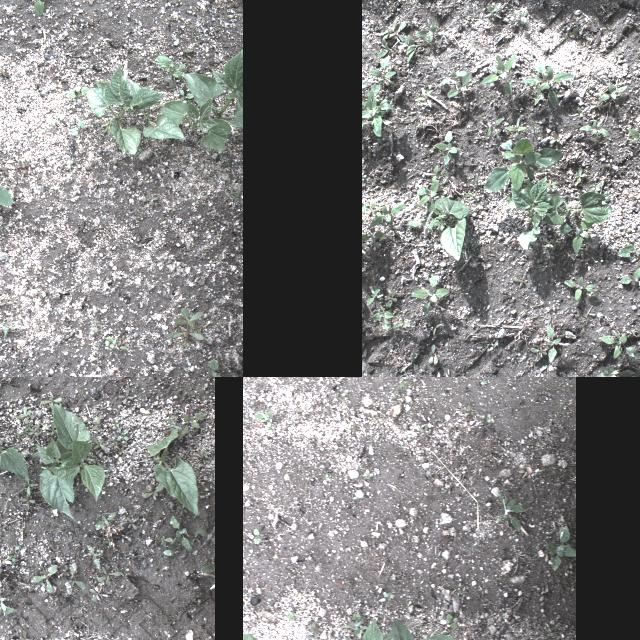crop: (138, 49, 243, 152), (87, 62, 163, 158), (37, 404, 104, 502), (146, 414, 200, 514), (429, 172, 477, 260), (28, 438, 74, 520), (507, 175, 555, 249), (330, 611, 420, 640), (539, 191, 611, 225), (0, 399, 28, 482), (243, 629, 265, 640)
weed: (483, 138, 563, 192), (521, 62, 573, 106), (165, 303, 207, 345), (409, 274, 448, 316), (480, 54, 516, 98), (543, 521, 573, 573), (362, 90, 394, 136), (598, 329, 640, 359), (557, 220, 593, 254), (369, 55, 397, 97), (154, 52, 188, 86), (495, 495, 527, 531), (58, 562, 86, 596), (179, 406, 205, 440), (368, 204, 406, 226), (31, 562, 57, 594), (564, 276, 598, 300), (170, 514, 192, 550), (406, 209, 434, 237), (434, 130, 456, 164), (368, 304, 394, 332), (416, 179, 438, 211), (396, 33, 419, 63), (446, 71, 472, 97), (414, 18, 442, 42), (96, 560, 124, 584), (376, 17, 406, 39), (504, 116, 528, 142), (617, 234, 640, 261), (579, 119, 609, 139), (590, 365, 635, 377), (546, 324, 560, 362), (64, 84, 88, 106), (103, 332, 127, 353), (438, 69, 468, 85), (376, 37, 399, 57), (0, 592, 18, 617), (600, 84, 628, 100), (206, 355, 226, 377), (398, 351, 418, 373), (486, 116, 506, 138), (23, 0, 52, 15), (362, 230, 386, 248), (620, 267, 640, 288), (68, 116, 88, 136), (414, 87, 434, 107), (0, 316, 18, 338), (95, 511, 116, 529), (88, 586, 109, 604), (193, 526, 214, 544), (225, 178, 242, 200), (12, 157, 30, 177), (139, 192, 161, 208), (40, 392, 62, 408), (626, 128, 640, 152), (366, 285, 382, 305), (177, 43, 203, 55), (482, 2, 501, 18), (512, 273, 530, 289), (422, 164, 438, 182), (17, 404, 31, 424), (144, 484, 164, 498), (130, 228, 146, 245), (86, 318, 102, 334), (20, 491, 36, 507), (0, 288, 12, 309), (117, 390, 135, 404), (384, 288, 396, 308), (248, 524, 260, 544), (92, 434, 106, 450), (392, 316, 410, 328), (427, 343, 437, 363), (569, 106, 589, 116), (64, 156, 76, 172), (374, 138, 390, 150), (4, 341, 18, 354), (574, 166, 584, 184), (530, 346, 548, 356), (533, 364, 546, 377), (542, 236, 554, 250), (589, 96, 601, 110), (370, 199, 382, 213), (22, 480, 34, 494), (157, 534, 173, 544), (125, 516, 136, 530), (514, 10, 526, 22), (92, 414, 101, 430), (432, 322, 442, 336), (544, 181, 558, 191), (548, 134, 562, 144), (200, 562, 214, 572), (25, 425, 39, 435), (0, 159, 8, 176), (487, 338, 498, 350), (118, 426, 128, 439), (386, 288, 402, 296), (588, 183, 604, 191), (620, 227, 632, 237), (631, 192, 640, 205), (534, 86, 540, 104), (604, 190, 610, 198), (362, 80, 366, 88), (361, 202, 365, 210)
